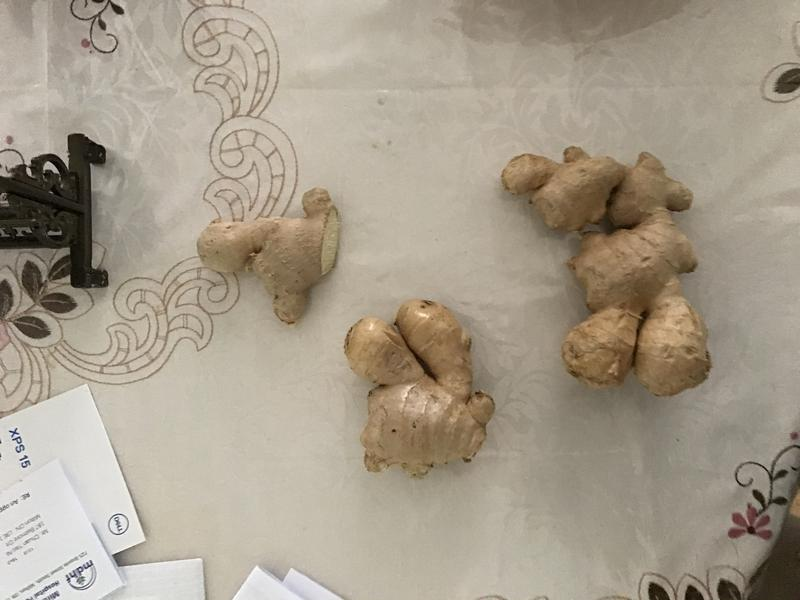ginger: (493, 130, 729, 405), (333, 294, 504, 486), (188, 180, 353, 330)
